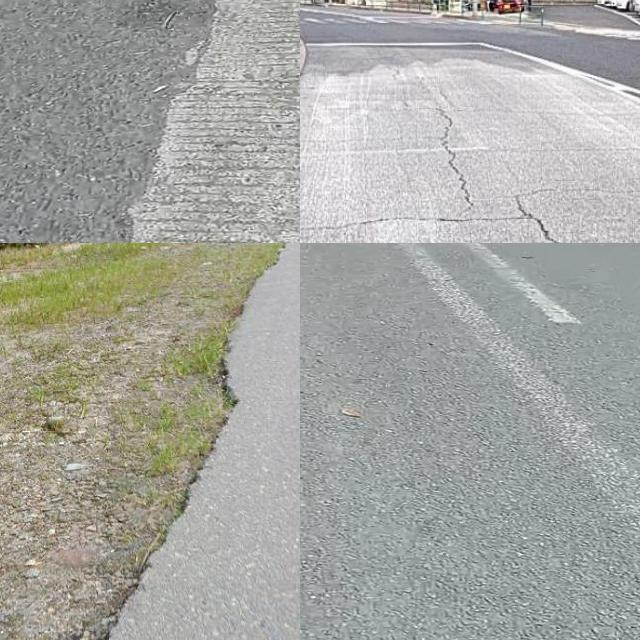Pinggir: (50, 303, 284, 640)
Sambungan: (300, 43, 640, 243), (128, 0, 300, 243)
